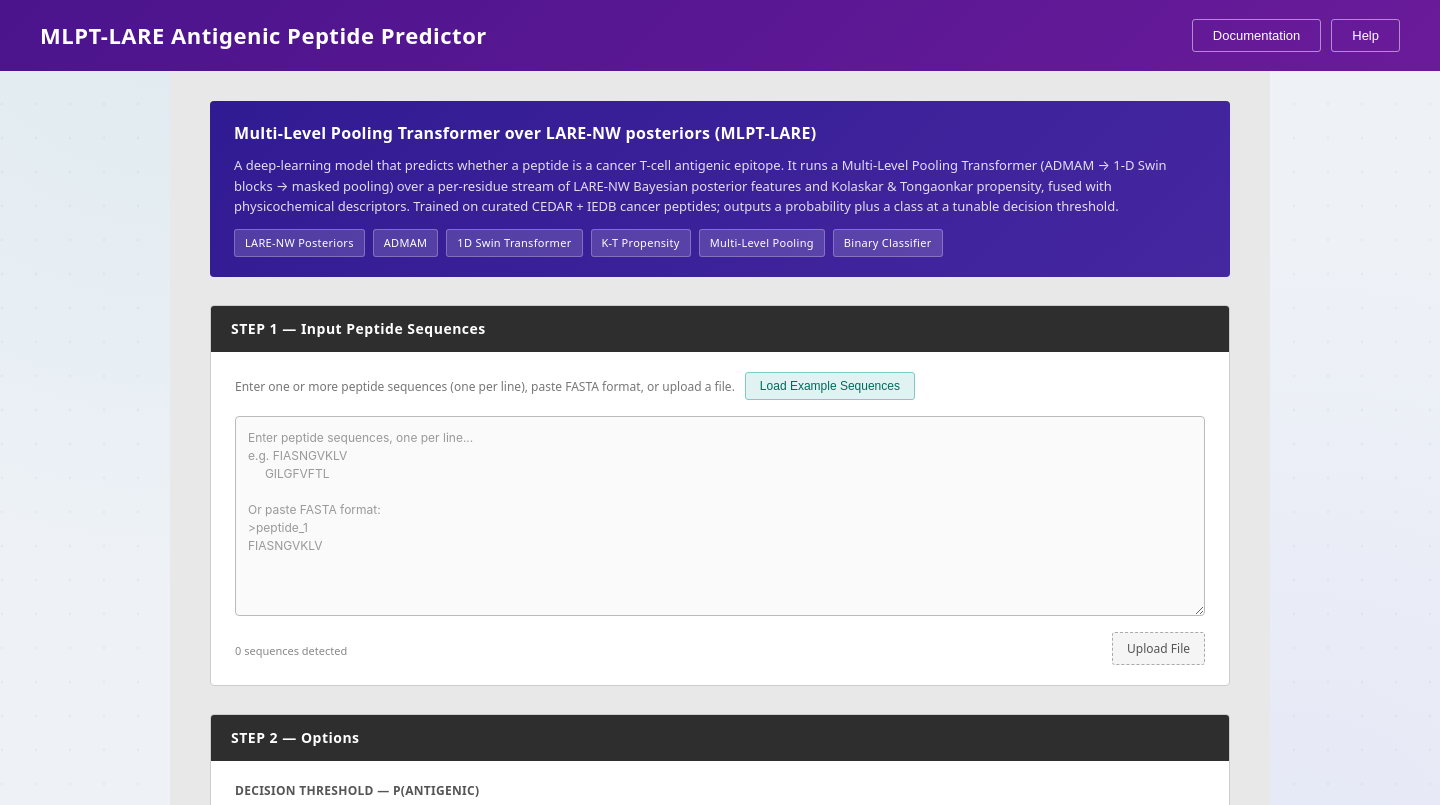
AntigenicPeptidePage › fills textarea when "Load Example Sequences" is clicked
Step 1. Click the button "Load Example Sequences" → coordinates (830, 386), box [745,372,915,400]
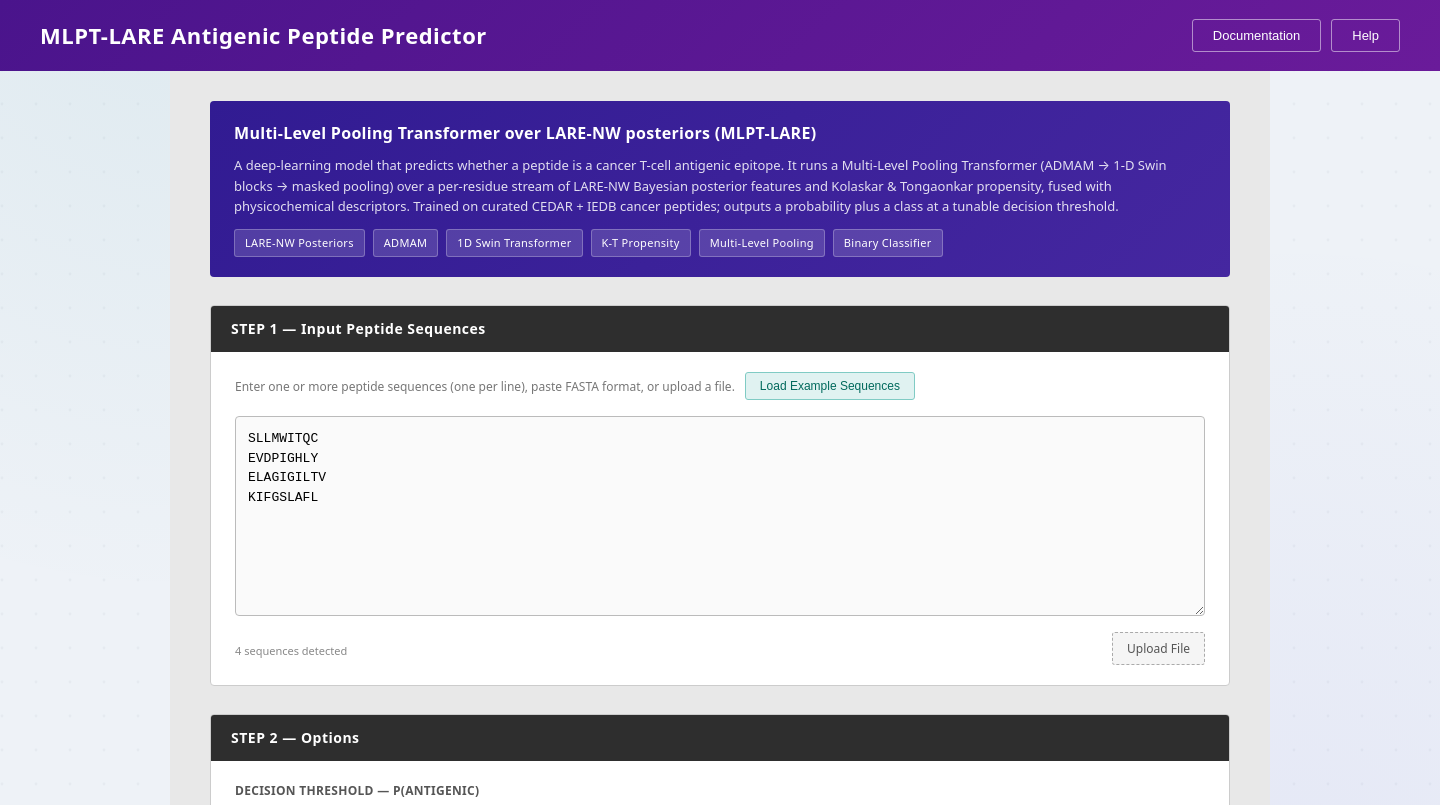
Check: the text "4 sequences detected" is shown, box [235,642,347,659]
